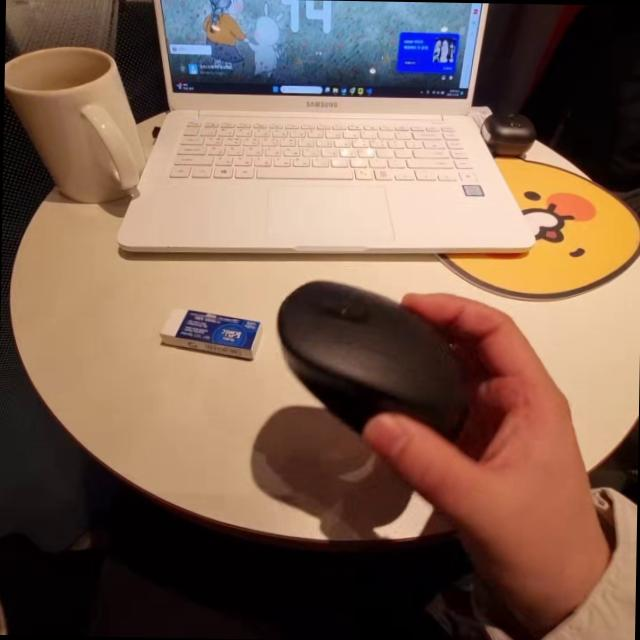eraser: (146, 298, 262, 378)
grab_mouse: (283, 264, 640, 572)
hand: (394, 276, 602, 566)
mouse: (266, 269, 489, 438)
